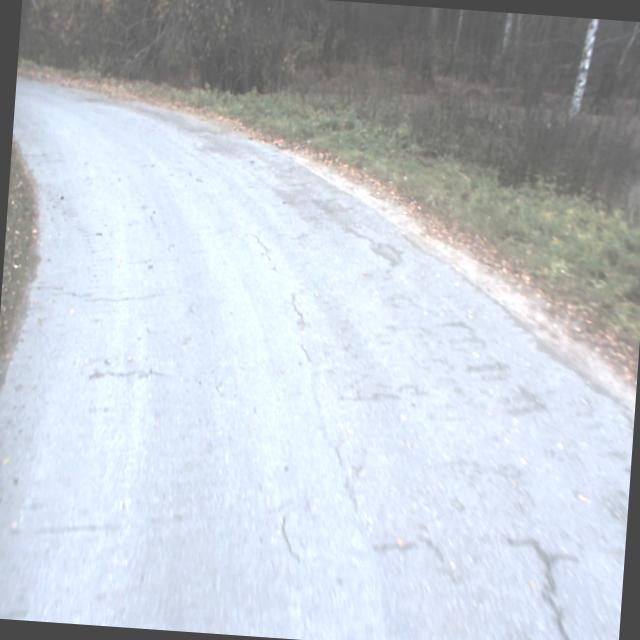road: (0, 74, 634, 640)
